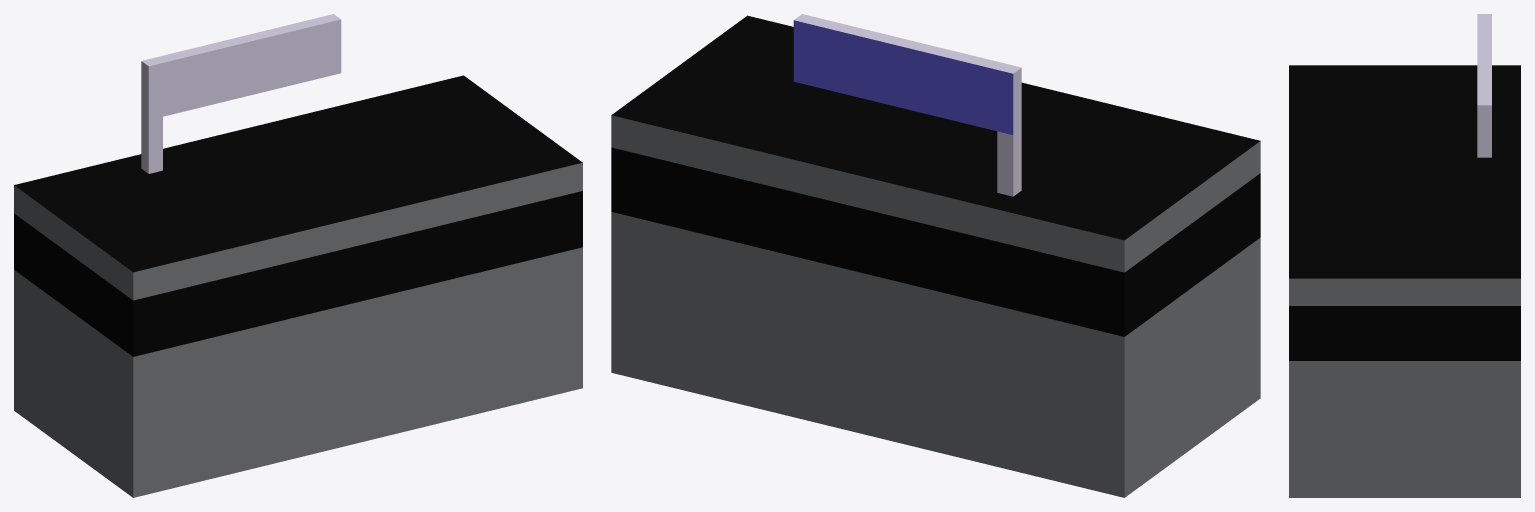
The model's file is nullshop.fbx.
The picture shows the model from 3 angles, left to right: view 1: azimuth 30°, elevation 25°; view 2: azimuth 150°, elevation 25°; view 3: azimuth 270°, elevation 25°; orthographic projection. The views are drawn at different scales.
Visible parts, largest first — view 1: Cube; view 2: Cube; view 3: Cube.
Boxes of the visible parts, bbox=[...] form: Cube: bbox=[14, 14, 582, 497]; Cube: bbox=[611, 14, 1260, 497]; Cube: bbox=[1289, 14, 1520, 497].
Size of the model in its own units: 600 by 425 by 276.
